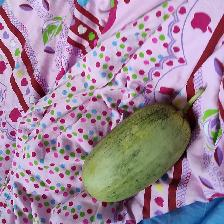gua: (89, 114, 178, 189)
